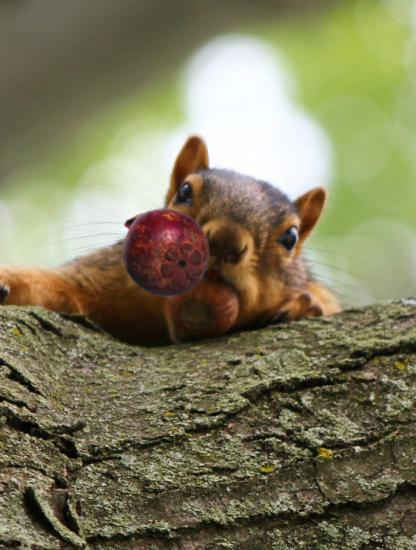Mangostan: (120, 206, 213, 299)
